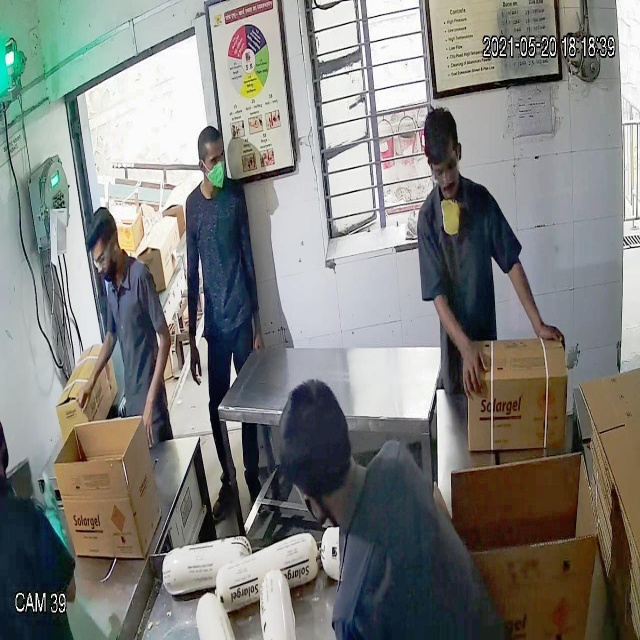Gafas: (425, 155, 461, 186), (86, 244, 113, 271)
Sin_gafas: (198, 148, 227, 172)
